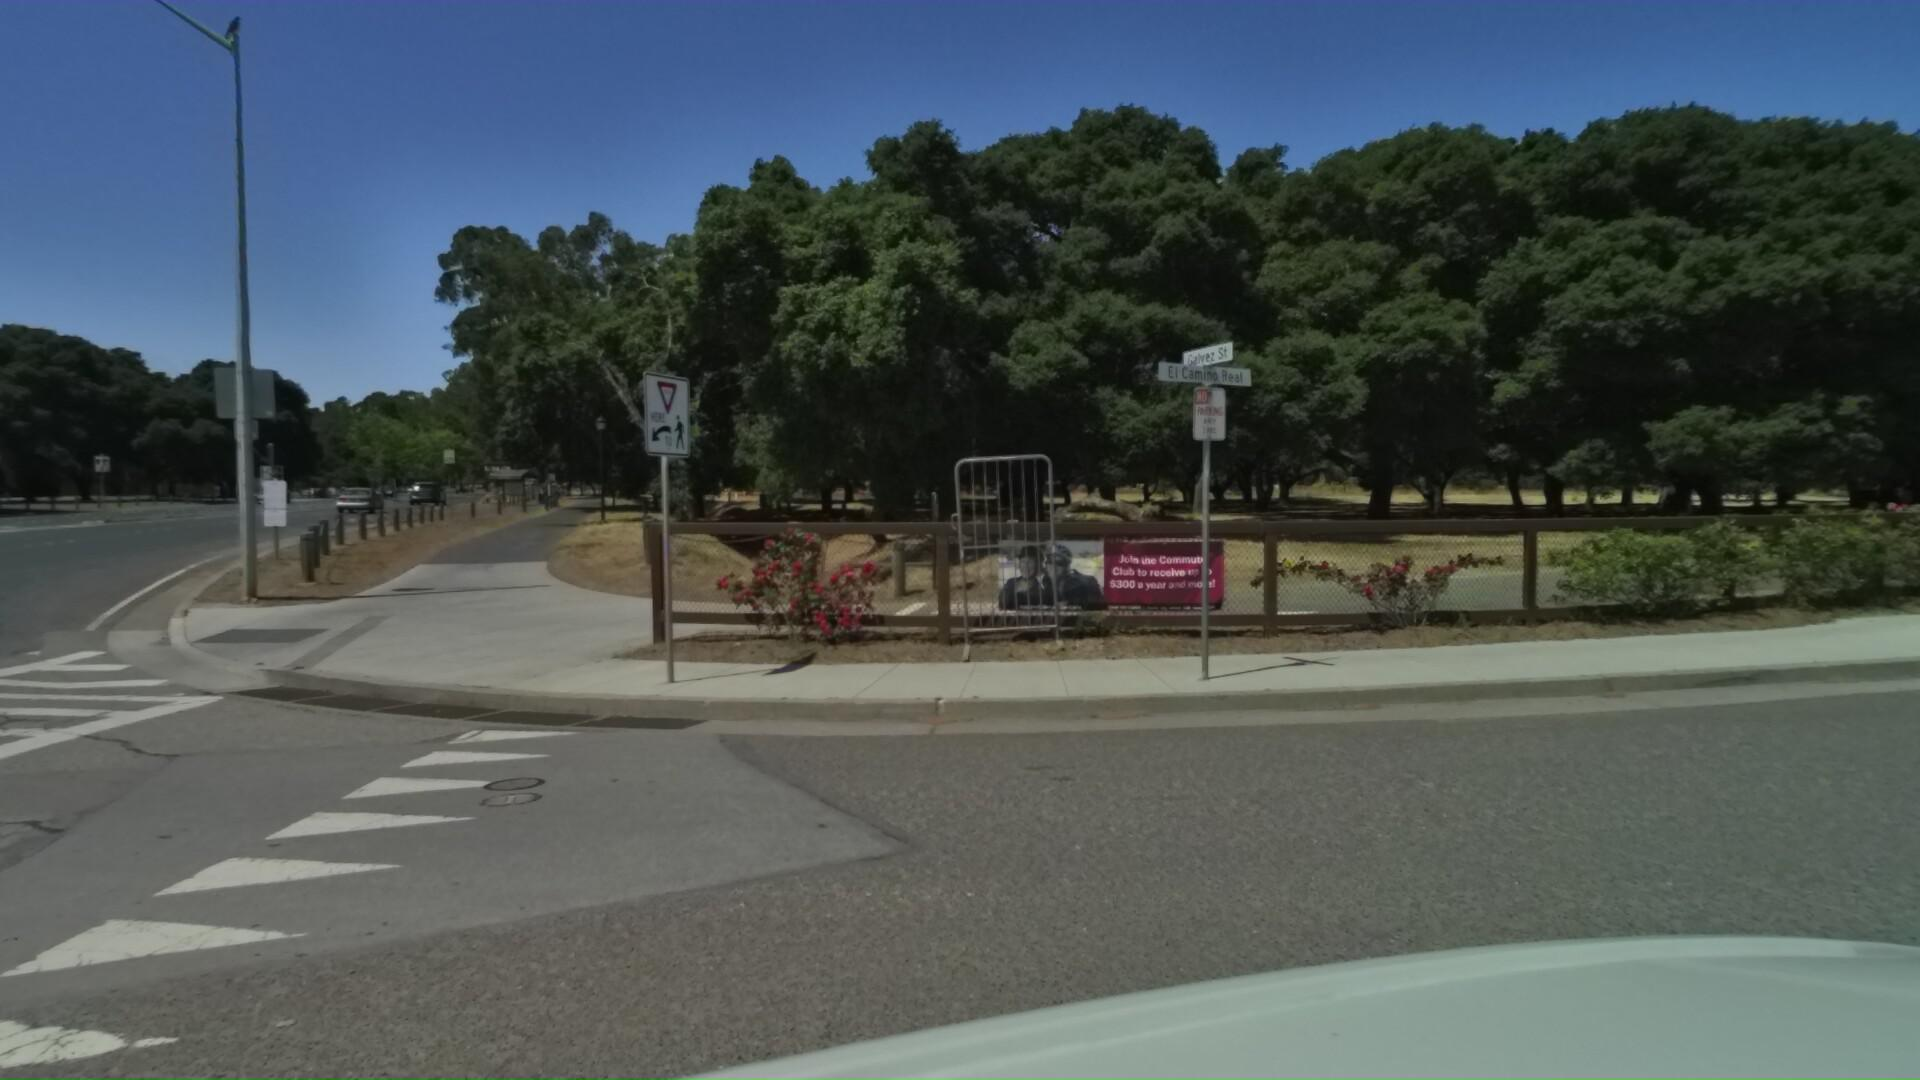car: (338, 483, 392, 512), (411, 479, 448, 502)
